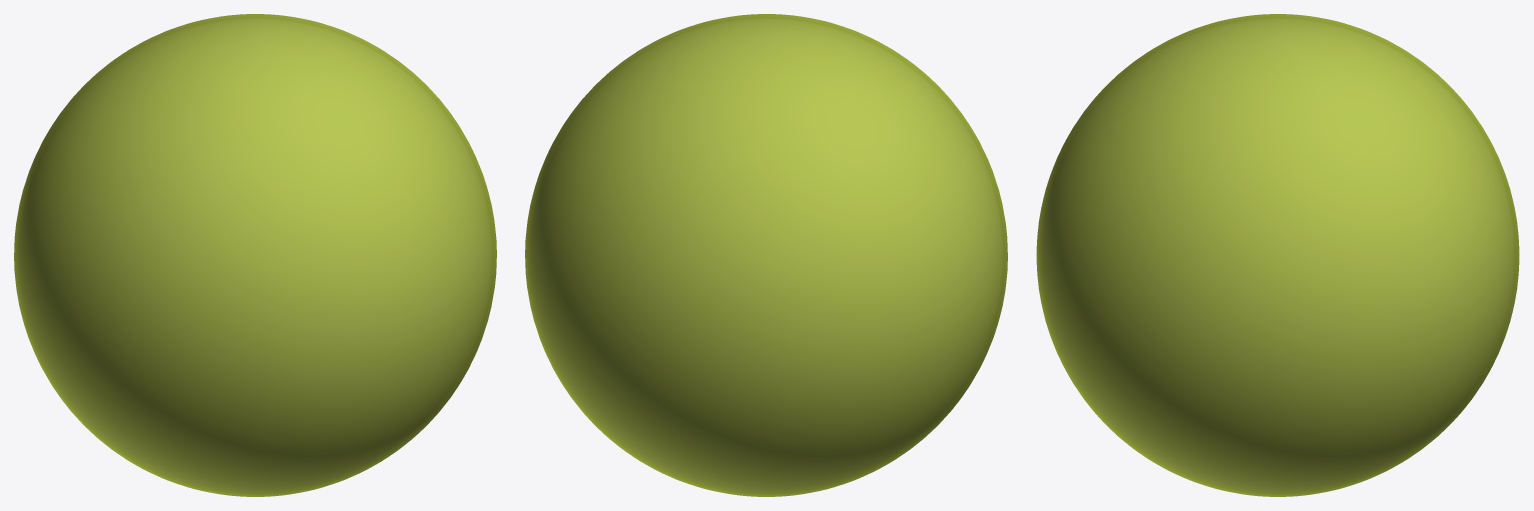
3 views of the same model, side by side, from view 1: azimuth 30°, elevation 25°; view 2: azimuth 150°, elevation 25°; view 3: azimuth 270°, elevation 25° (orthographic).
Parts seen in each view (by area): view 1: Atmosphere, Titan; view 2: Atmosphere, Titan; view 3: Atmosphere, Titan.
Boxes of the visible parts, <box> form: Atmosphere: <box>14,14,496,496</box>; Titan: <box>19,19,491,491</box>; Atmosphere: <box>525,14,1007,496</box>; Titan: <box>530,19,1002,491</box>; Atmosphere: <box>1036,14,1519,496</box>; Titan: <box>1042,19,1513,491</box>.
Size of the model in its own units: 2.04 by 2.04 by 2.04.
